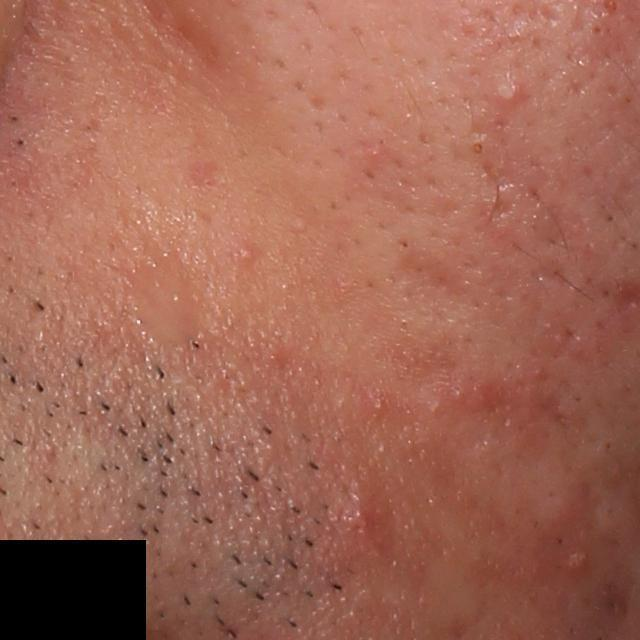comedo: (534, 477, 588, 534), (469, 140, 487, 159)
papule: (333, 487, 383, 543), (470, 367, 518, 418), (560, 537, 602, 577), (236, 243, 260, 267)
pustule: (483, 70, 532, 110)
